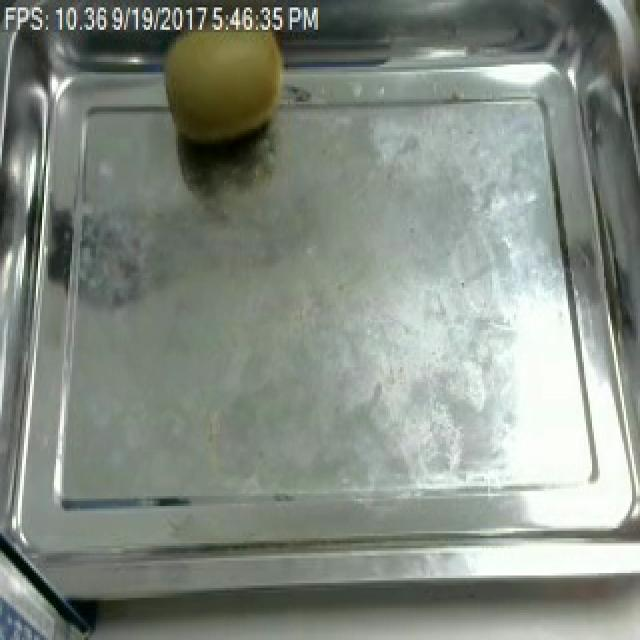Fruit: (156, 5, 292, 154)
